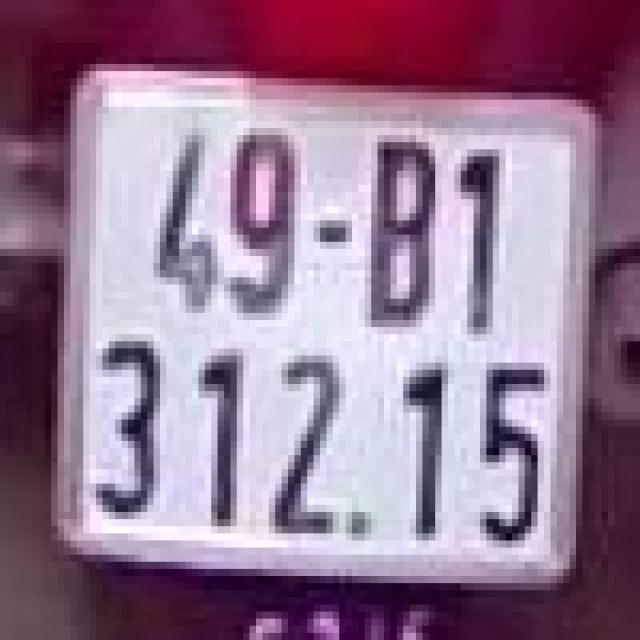1: (390, 352, 454, 558), (189, 338, 253, 530), (454, 135, 506, 341)
2: (266, 348, 342, 540)
3: (92, 320, 170, 540)
4: (144, 118, 227, 324)
5: (464, 352, 554, 565)
9: (224, 110, 294, 324)
B: (362, 117, 444, 338)
